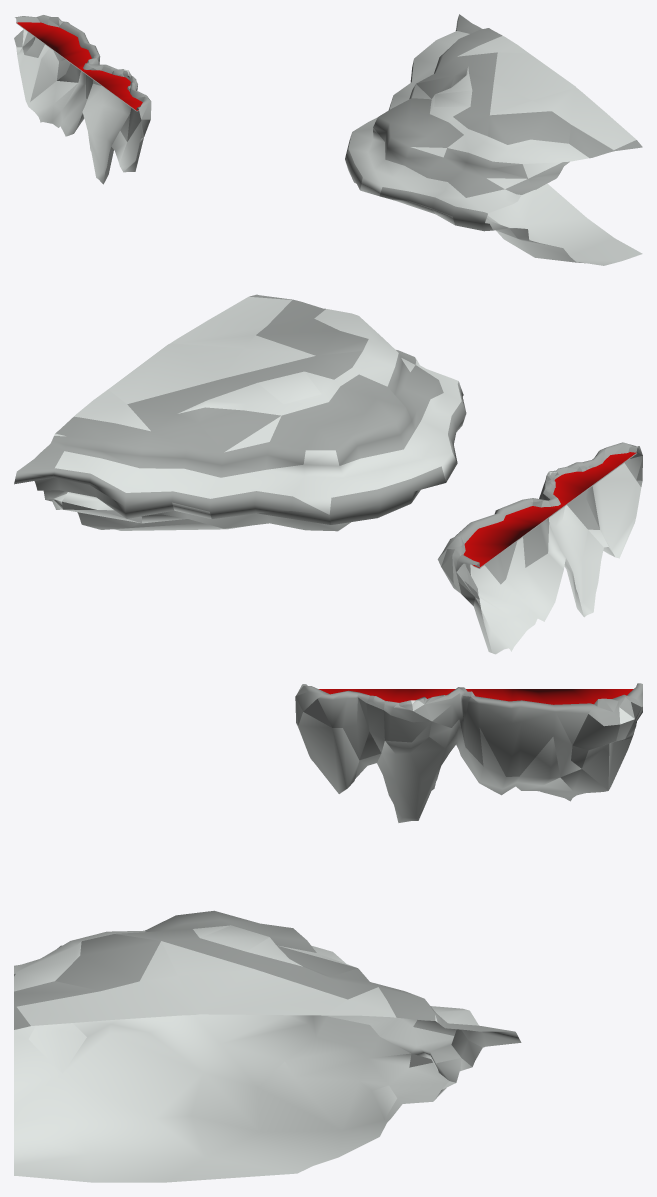
3 renders of one model, top to bottom at view 1: azimuth 30°, elevation 25°; view 2: azimuth 150°, elevation 25°; view 3: azimuth 270°, elevation 25°, orthographic. The views are drawn at different scales.
Visible parts, largest first — view 1: G:\FFXIV-MapTools\exports\a2f1\bg\ex1\03_abr_a2\fld\a2f1\bgp (×9); view 2: G:\FFXIV-MapTools\exports\a2f1\bg\ex1\03_abr_a2\fld\a2f1\bgp (×10); view 3: G:\FFXIV-MapTools\exports\a2f1\bg\ex1\03_abr_a2\fld\a2f1\bgp (×8).
Part boxes in pixels (x1,y1,x2,y2): G:\FFXIV-MapTools\exports\a2f1\bg\ex1\03_abr_a2\fld\a2f1\bgp (×9): (14,14,642,265); G:\FFXIV-MapTools\exports\a2f1\bg\ex1\03_abr_a2\fld\a2f1\bgp (×10): (14,294,642,654); G:\FFXIV-MapTools\exports\a2f1\bg\ex1\03_abr_a2\fld\a2f1\bgp (×8): (14,683,642,1182).
Bounding box in the file's own units: 128 × 55.38 × 128.
